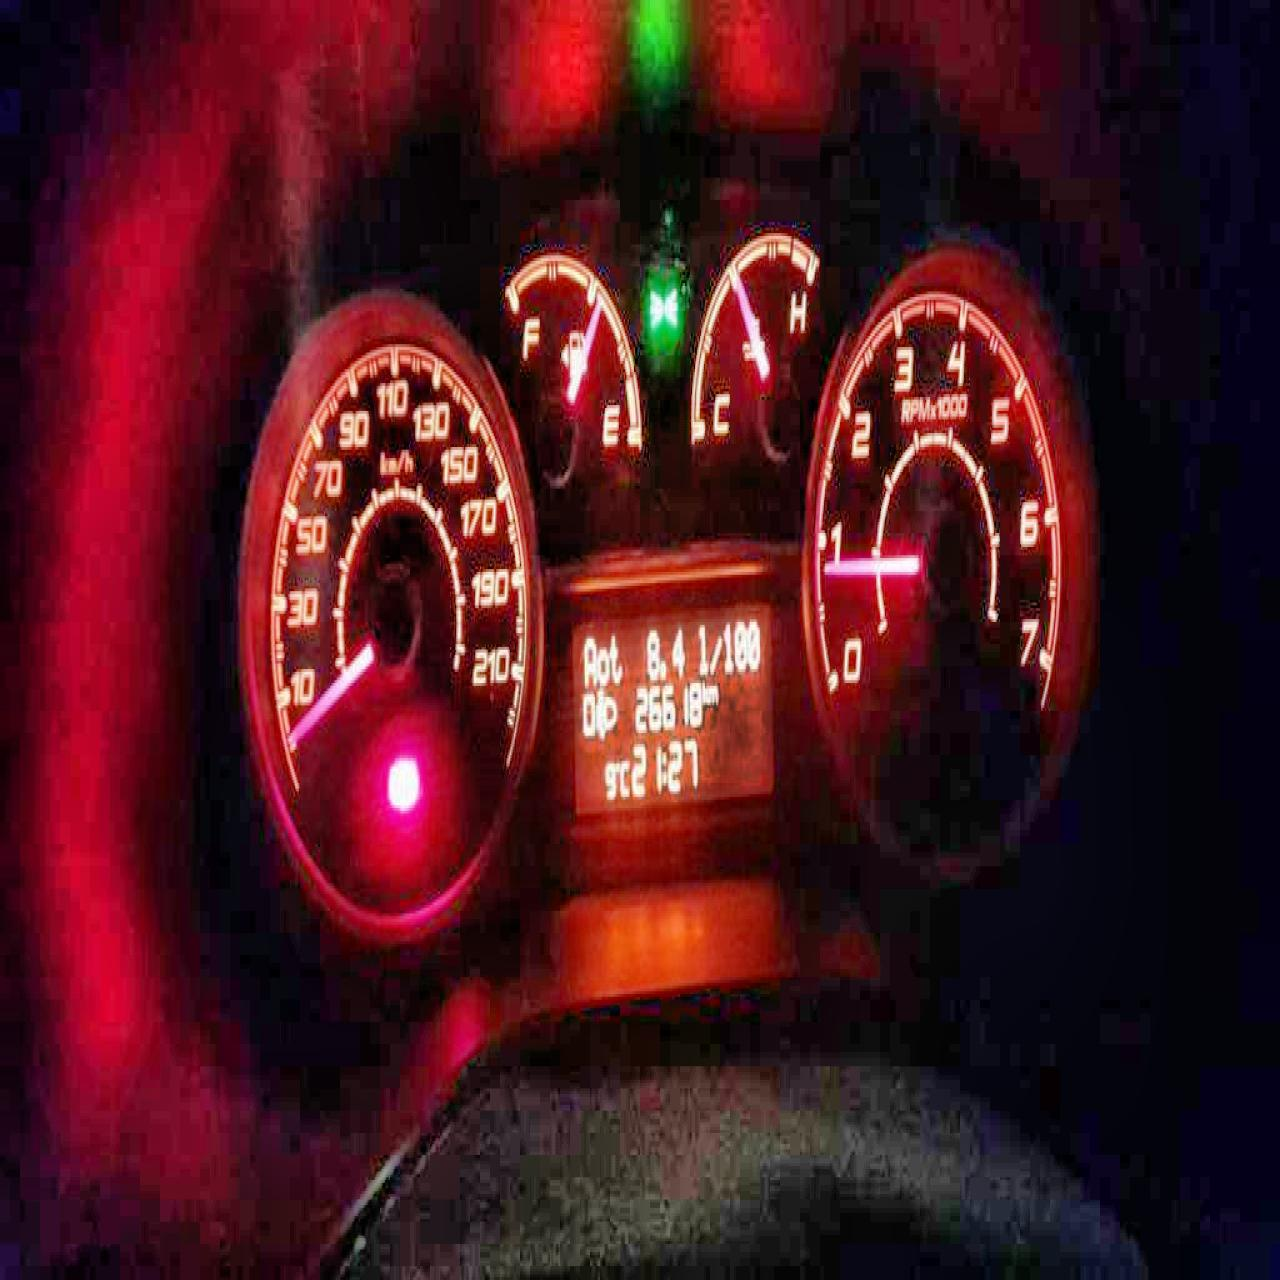-: (659, 655, 666, 681)
0: (733, 617, 747, 672), (745, 617, 760, 672), (581, 689, 595, 734)
1: (722, 619, 733, 672), (681, 680, 688, 724), (655, 741, 661, 794)
2: (629, 738, 646, 797), (667, 736, 681, 791), (633, 683, 647, 733)
4: (670, 621, 685, 678)
6: (660, 680, 676, 730), (646, 680, 660, 730)
7: (682, 735, 697, 789)
8: (645, 625, 659, 678), (688, 678, 701, 728)
9: (604, 758, 617, 799)
X: (581, 633, 597, 686), (610, 629, 622, 683), (696, 619, 708, 675), (708, 633, 722, 675), (595, 641, 610, 682), (619, 758, 629, 797), (708, 681, 719, 706), (660, 749, 666, 785), (701, 678, 708, 702)
odometer: (568, 594, 776, 825)
